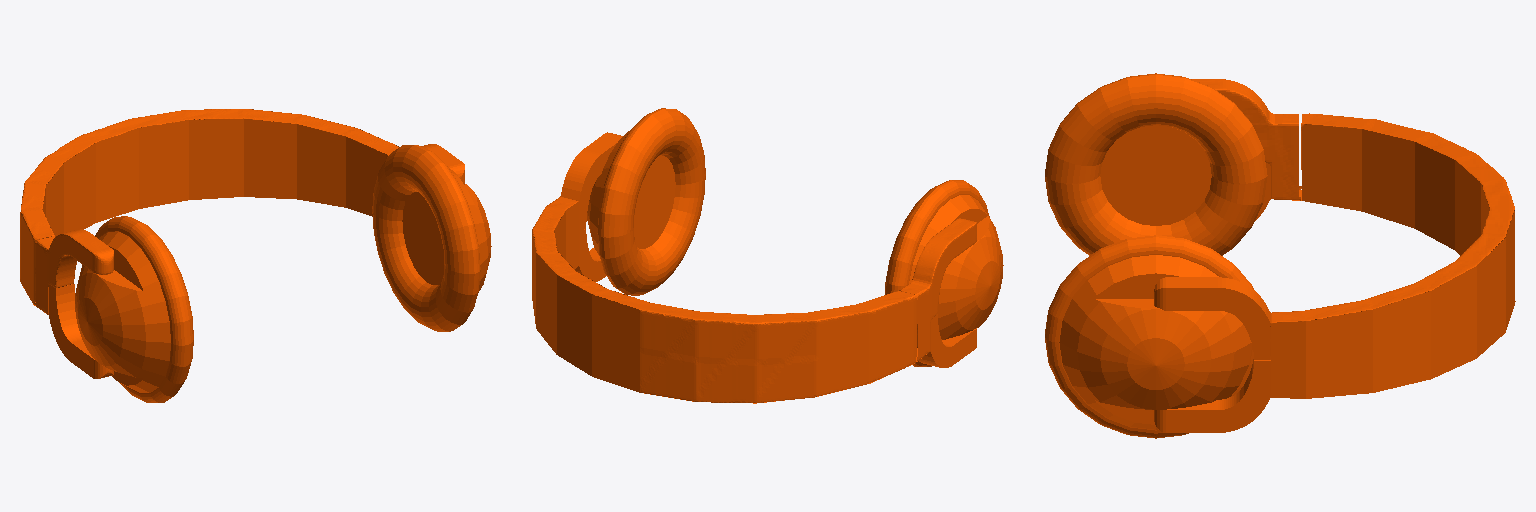
The robot description file, URDF, robot "Earphone_9982_left_earcup":
<?xml version="1.0" ?>
<robot name="Earphone_9982_left_earcup">
   <material name="obj_color">
      <color rgba="1.0 0.423529411765 0.0392156862745 1.0"/>
   </material>
   <link name="top">
      <inertial>
         <origin rpy="2.961660033251634e-05 3.949675552408154e-05 5.975131102088612e-05" xyz="-0.07030362200117403 -0.03312447622055321 -0.0001056366166980564"/>
         <mass value="0.09540294900442425"/>
         <inertia ixx="5.934763951608672e-05" ixy="3.464021631927112e-06" ixz="2.675915241241358e-08" iyy="3.002080195362375e-05" iyz="8.021698889130177e-08" izz="3.949622540777353e-05"/>
      </inertial>
      <visual>
         <origin rpy="0 0 0" xyz="0 0 0"/>
         <geometry>
            <mesh filename="top_watertight_tiny.stl" scale="1 1 1"/>
         </geometry>
         <material name="obj_color"/>
      </visual>
      <collision>
         <origin rpy="0 0 0" xyz="0 0 0"/>
         <geometry>
            <mesh filename="top_watertight_tiny.obj" scale="1 1 1"/>
         </geometry>
      </collision>
   </link>
   <link name="bottom">
      <inertial>
         <origin rpy="0.00073186200061597 0.001624762152139013 0.002036350655076512" xyz="0.01644000330724473 0.006231630588078353 0.0002617058875058281"/>
         <mass value="0.7476092979658333"/>
         <inertia ixx="0.001052262844764303" ixy="0.0004282852590539899" ixz="-1.004199641064843e-06" iyy="0.0013043645772032" iyz="1.543643540756982e-06" izz="0.002036347385863992"/>
      </inertial>
      <visual>
         <origin rpy="0 0 0" xyz="0 0 0"/>
         <geometry>
            <mesh filename="bottom_watertight_tiny.stl" scale="1 1 1"/>
         </geometry>
         <material name="obj_color"/>
      </visual>
      <collision>
         <origin rpy="0 0 0" xyz="0 0 0"/>
         <geometry>
            <mesh filename="bottom_watertight_tiny.obj" scale="1 1 1"/>
         </geometry>
      </collision>
   </link>
   <link name="world"/>
   <joint name="world_to_base" type="fixed">
      <origin xyz="0 0 0"/>
      <axis xyz="0 0 0"/>
      <parent link="world"/>
      <child link="bottom"/>
   </joint>
   <joint name="rotation" type="revolute">
      <origin xyz="0 0 0"/>
      <axis xyz="0 0 -1"/>
      <parent link="bottom"/>
      <child link="top"/>
      <dynamics damping="1.0" friction="1.0"/>
      <limit effort="0.1" velocity="0.1" lower="0" upper="0.001"/>
   </joint>
</robot>

--- Facts derived from the render (not from the file) ---
Views: 3 orthographic renders of the robot side by side, from view 1: azimuth 30°, elevation 25°; view 2: azimuth 150°, elevation 25°; view 3: azimuth 270°, elevation 25°.
Model Earphone_9982_left_earcup with 3 links and 2 joints (1 revolute, 1 fixed), rooted at world, posed every joint at zero.
Visible links, largest first — view 1: bottom, top; view 2: bottom, top; view 3: bottom, top.
Link boxes in pixels (<box>): bottom: <box>20,109,491,331</box>; top: <box>34,216,193,402</box>; bottom: <box>532,108,916,403</box>; top: <box>885,180,1003,367</box>; bottom: <box>1045,113,1515,438</box>; top: <box>1045,73,1301,255</box>.
Size in the robot's own frame: 0.1722 by 0.1552 by 0.074 metres.
Meshes: 2 distinct files referenced, 2 mesh visuals loaded (2 binary STL).